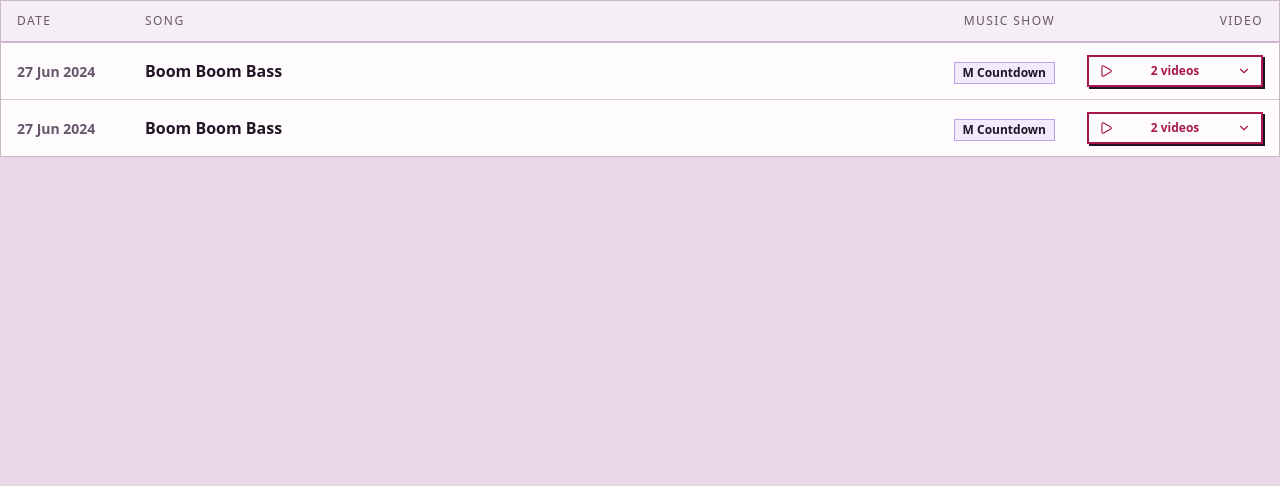
Scenario: win video references › starts collapsed and expands and collapses on click, independent per win
What coordinates should you click on to do the following:
click the button with aria-label "for Boom Boom Bass by Riize"
I would click on:
 (1175, 71)
Its box is [1087, 55, 1263, 87].
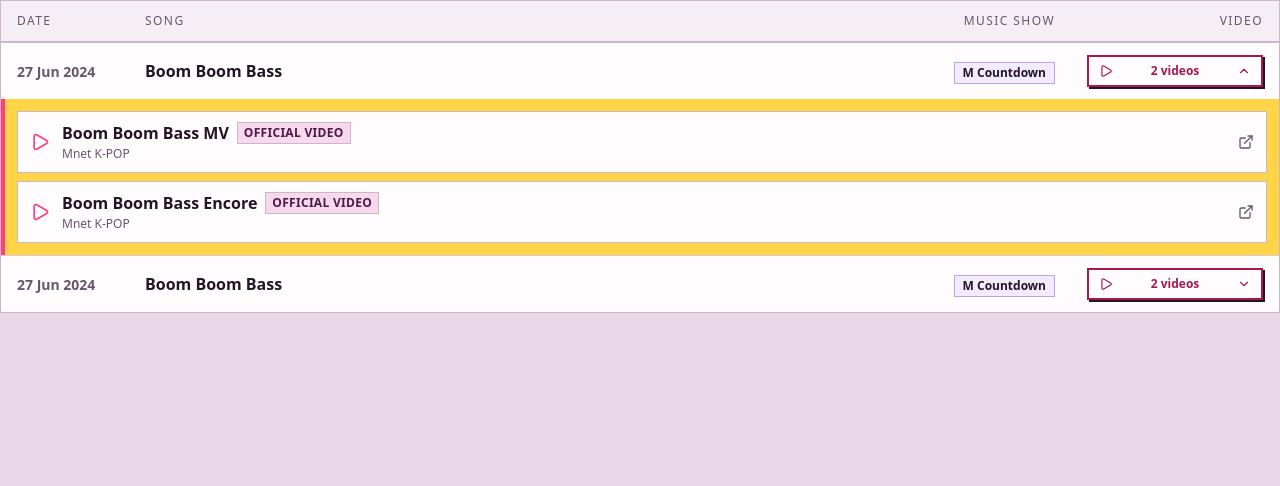
Now the element with id "win-videos-1" is shown, box [1, 99, 1279, 255]
Now the button with aria-label "for Boom Boom Bass by Riize" is expanded, box [1087, 55, 1263, 87]
What coordinates should you click on to do the following:
click the button with aria-label "for Boom Boom Bass by Riize"
I would click on:
 (1175, 284)
Its box is [1087, 268, 1263, 300].
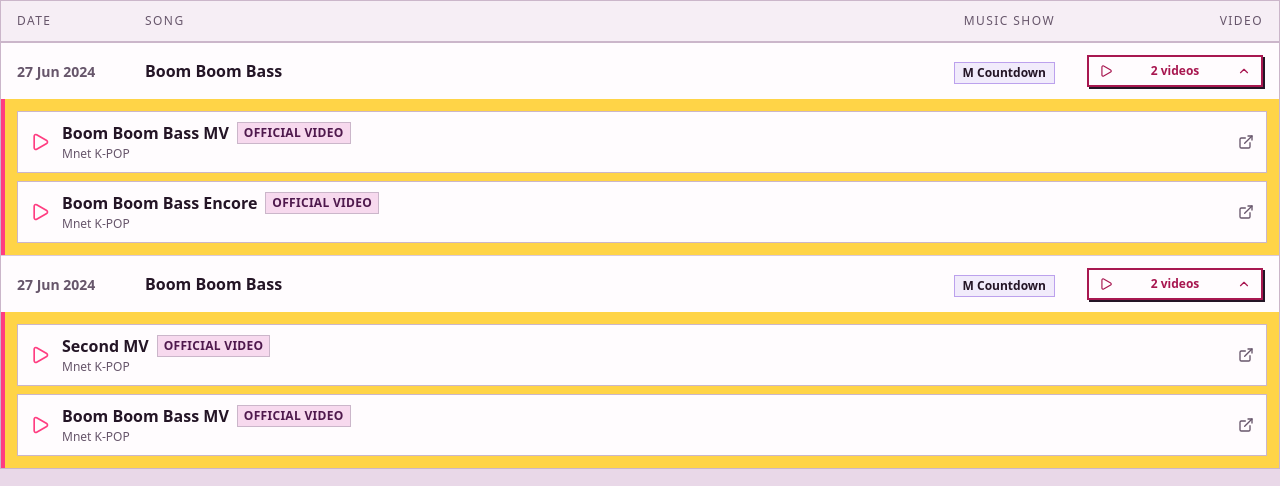
Now the element with id "win-videos-1" is shown, box [1, 99, 1279, 255]
What coordinates should you click on to do the following:
click the button with aria-label "for Boom Boom Bass by Riize"
I would click on:
 (1175, 71)
Its box is [1087, 55, 1263, 87].
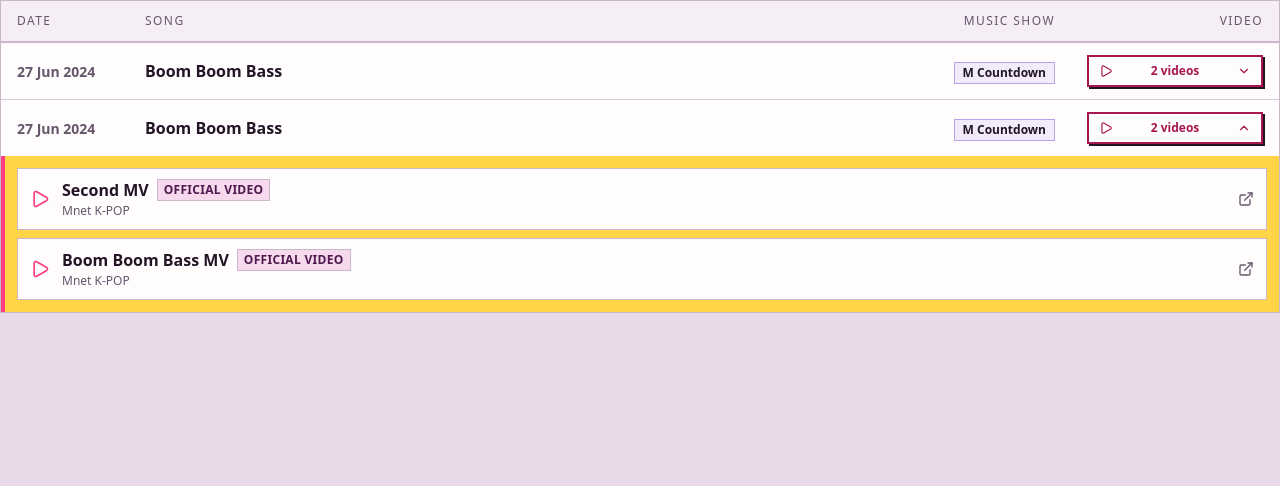
Now the element with id "win-videos-1" is gone
Now the button with aria-label "for Boom Boom Bass by Riize" is collapsed, box [1087, 55, 1263, 87]
